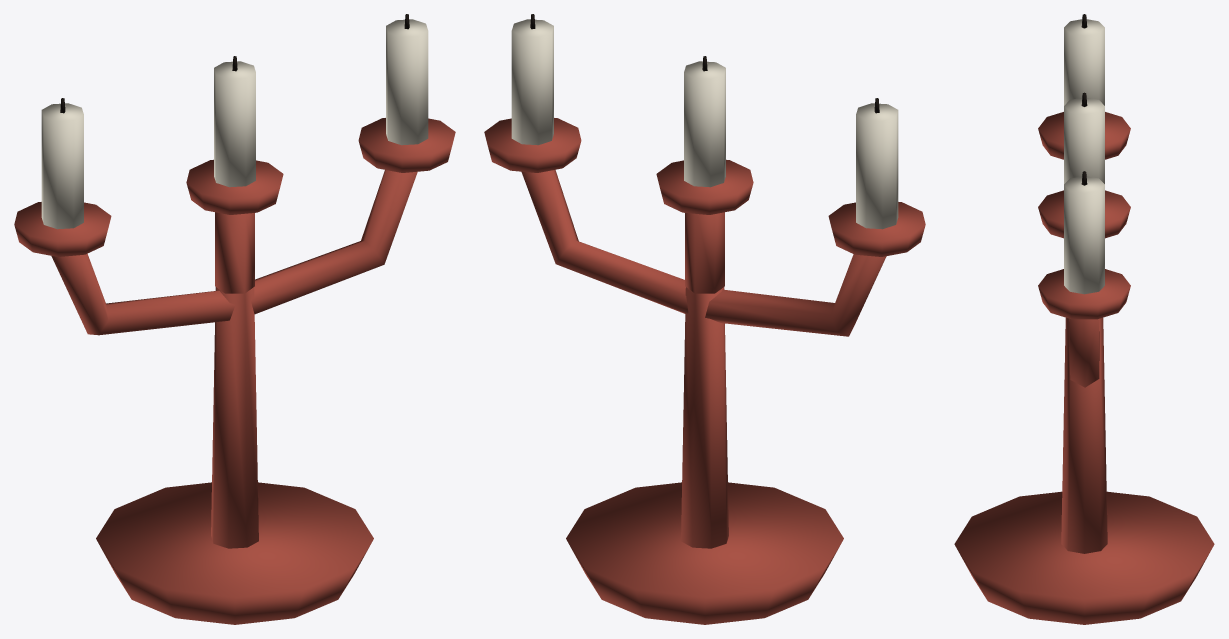
Rendered from rich_mahogany_candelabra_v0.glb.
The picture shows the model from 3 angles, left to right: view 1: azimuth 30°, elevation 25°; view 2: azimuth 150°, elevation 25°; view 3: azimuth 270°, elevation 25°; orthographic projection. The views are drawn at different scales.
Visible parts, largest first — view 1: rich_mahogany_candelabra_v0; view 2: rich_mahogany_candelabra_v0; view 3: rich_mahogany_candelabra_v0.
Part boxes in pixels (bbox=[...]): rich_mahogany_candelabra_v0: bbox=[14, 14, 455, 624]; rich_mahogany_candelabra_v0: bbox=[484, 14, 925, 624]; rich_mahogany_candelabra_v0: bbox=[954, 14, 1214, 624].
Bounding box in the file's own units: 0.4951 × 0.575 × 0.28.
